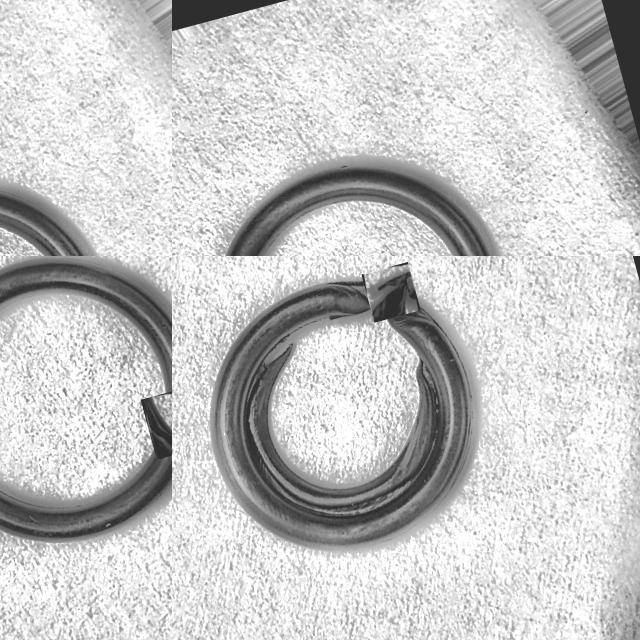侧边压痕: (338, 164, 349, 168)
切割缺陷: (388, 296, 435, 327), (315, 280, 370, 304), (145, 397, 172, 443)
挤压缺陷: (365, 265, 416, 313)
裂纹: (242, 342, 437, 514), (327, 314, 356, 321)
